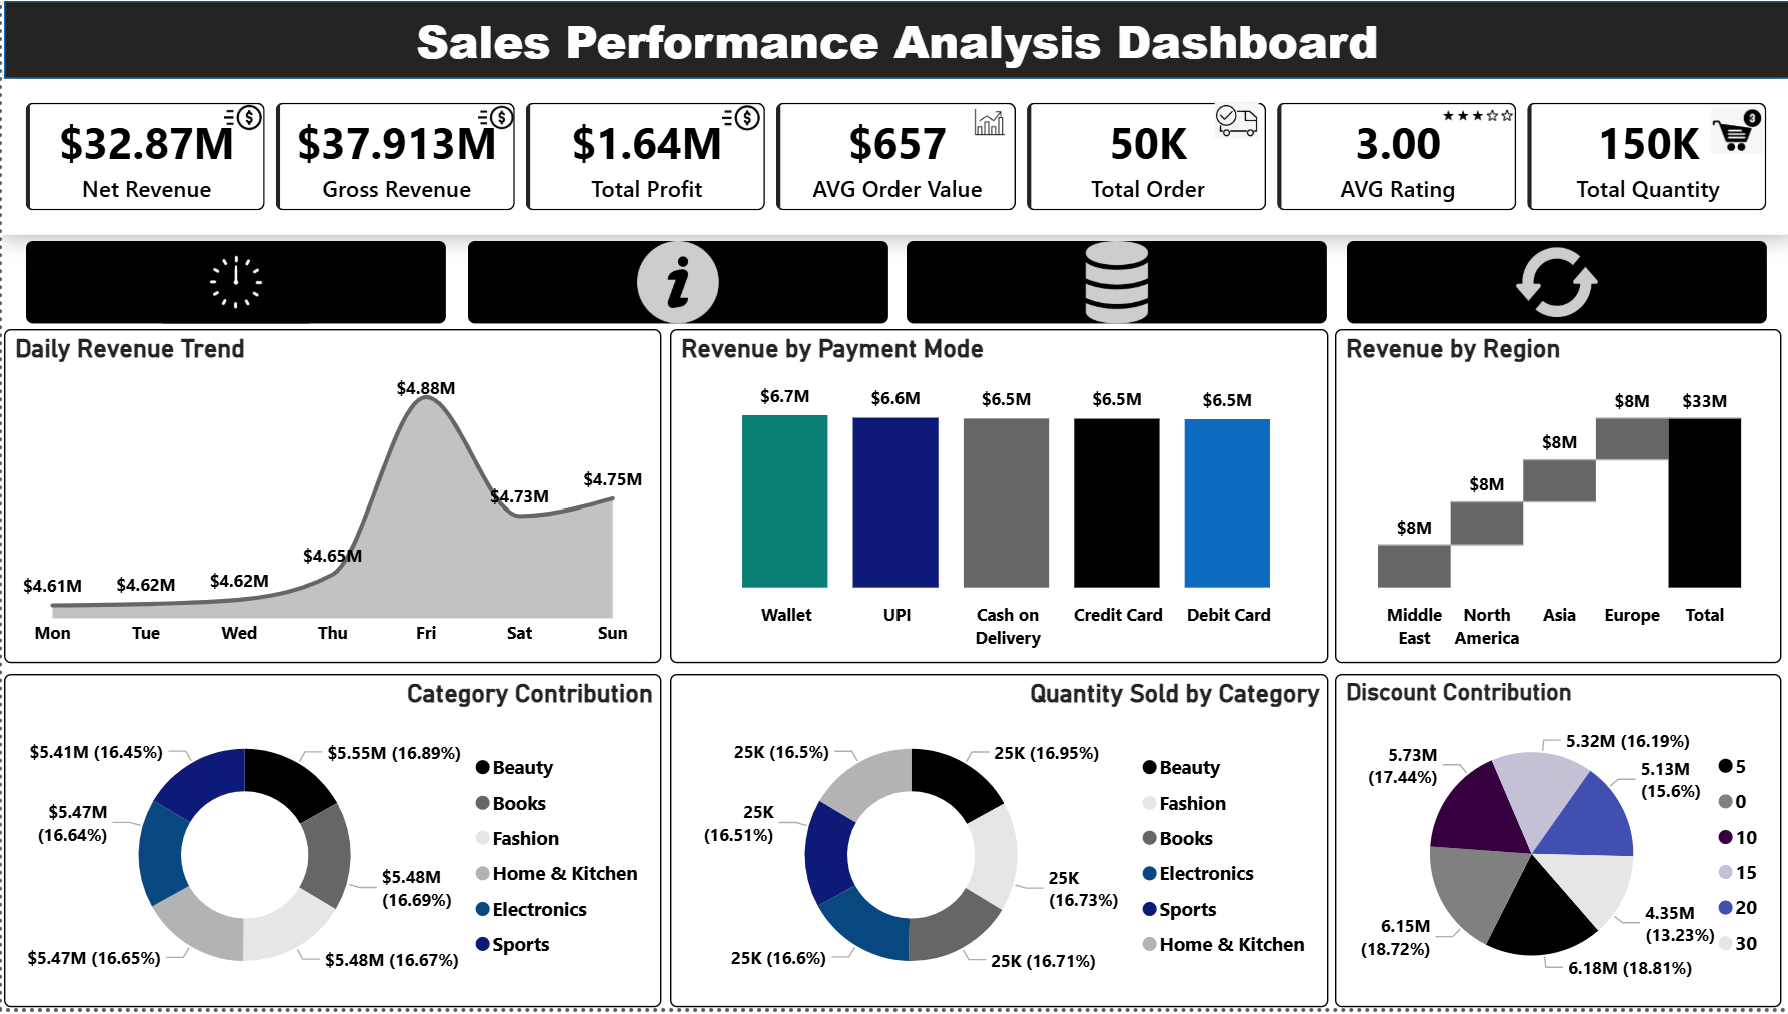

What the dashboard file says about the page in this screenshot:
{"tool":"powerbi","page":{"name":"Saleh_dashboard","canvas":[1280,720],"ordinal":0},"visuals":[{"type":"cardVisual","fields":{"Data":["cleaned_dataset.Net Revenue","cleaned_dataset.Gross Revenue","cleaned_dataset.Total Profit","cleaned_dataset.AVG Order Value","cleaned_dataset.Total Order","cleaned_dataset.AVG Rating","cleaned_dataset.Total Quantity"]},"box":[0,55.6,1279.5,111.3],"z":0},{"type":"areaChart","title":"Daily Revenue Trend","fields":{"Category":["cleaned_dataset.day_name"],"Y":["cleaned_dataset.Net Revenue"]},"box":[1.6,235.2,470.5,238.4],"z":1000},{"type":"image","box":[340.1,65.2,25.4,35],"z":2000},{"type":"image","box":[158.9,65.2,27,35],"z":3000},{"type":"image","box":[515,69.9,27,27],"z":4000},{"type":"image","box":[689.8,73.1,33.4,27],"z":5000},{"type":"image","box":[863,73.1,39.7,25.4],"z":6000},{"type":"image","box":[1012.5,47.7,87.4,69.9],"z":7000},{"type":"image","box":[1219.1,76.3,42.9,33.4],"z":8000},{"type":"donutChart","title":"Category Contribution","fields":{"Category":["cleaned_dataset.product_category"],"Y":["cleaned_dataset.Net Revenue"]},"box":[1.6,481.6,470.5,238.4],"z":9000},{"type":"columnChart","title":"Revenue by Payment Mode","fields":{"Category":["cleaned_dataset.payment_method"],"Y":["cleaned_dataset.Net Revenue"]},"box":[478.4,235.2,470.5,238.4],"z":10000},{"type":"donutChart","title":"Quantity Sold by Category","fields":{"Category":["cleaned_dataset.product_category"],"Y":["cleaned_dataset.Total Quantity"]},"box":[478.4,481.6,470.5,238.4],"z":11000},{"type":"pieChart","title":"Discount Contribution","fields":{"Category":["cleaned_dataset.discount_percent"],"Y":["cleaned_dataset.Net Revenue"]},"box":[953.6,481.6,319.5,238.4],"z":12000},{"type":"waterfallChart","title":"Revenue by Region","fields":{"Category":["cleaned_dataset.customer_region"],"Y":["cleaned_dataset.Net Revenue"]},"box":[953.6,235.2,319.5,238.4],"z":13000},{"type":"shape","box":[1.6,0,1277.9,55.6],"z":14000},{"type":"image","box":[961.6,171.7,300.4,58.8],"z":15000},{"type":"image","box":[646.9,171.7,300.4,58.8],"z":16000},{"type":"image","box":[333.8,171.7,300.4,58.8],"z":17000},{"type":"image","box":[17.5,171.7,300.4,58.8],"z":18000}]}

Visuals, with their boxes in screenshot pixels (x1, y1, x2, y2), scaled from the page's 1280x720 canvas onto the 1788x1014 screenshot:
cardVisual - cleaned_dataset.Net Revenue x cleaned_dataset.Gross Revenue: [left=0, top=78, right=1787, bottom=235]
"Daily Revenue Trend" areaChart: [left=2, top=331, right=659, bottom=667]
image: [left=475, top=92, right=511, bottom=141]
image: [left=222, top=92, right=260, bottom=141]
image: [left=719, top=98, right=757, bottom=136]
image: [left=964, top=103, right=1010, bottom=141]
image: [left=1206, top=103, right=1261, bottom=139]
image: [left=1414, top=67, right=1536, bottom=166]
image: [left=1703, top=107, right=1763, bottom=154]
"Category Contribution" donutChart: [left=2, top=678, right=659, bottom=1013]
"Revenue by Payment Mode" columnChart: [left=668, top=331, right=1325, bottom=667]
"Quantity Sold by Category" donutChart: [left=668, top=678, right=1325, bottom=1013]
"Discount Contribution" pieChart: [left=1332, top=678, right=1778, bottom=1013]
"Revenue by Region" waterfallChart: [left=1332, top=331, right=1778, bottom=667]
shape: [left=2, top=0, right=1787, bottom=78]
image: [left=1343, top=242, right=1763, bottom=325]
image: [left=904, top=242, right=1323, bottom=325]
image: [left=466, top=242, right=886, bottom=325]
image: [left=24, top=242, right=444, bottom=325]
